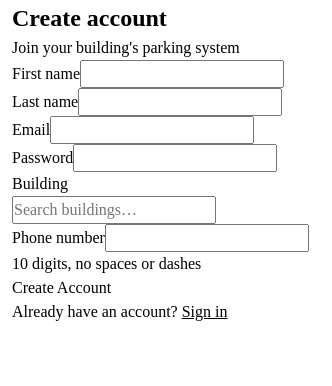
registerForm › shows duplicate email error returned from server
The image size is (332, 386).
Type "Jane" into the field labelled "First name" at [182, 74], box [80,60,284,88]
Type "Doe" into the field labelled "Last name" at [180, 102], box [78,88,282,116]
Type "jane@unosquare.com" into the field labelled "Email" at [152, 130], box [50,116,254,144]
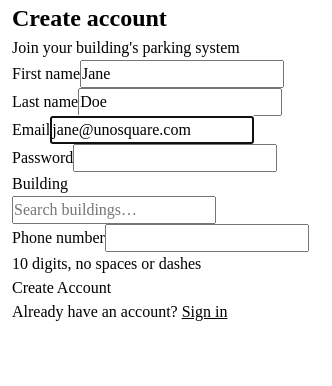
Type "secret12" into the password field labelled "Password" at [175, 158], box [73,144,277,172]
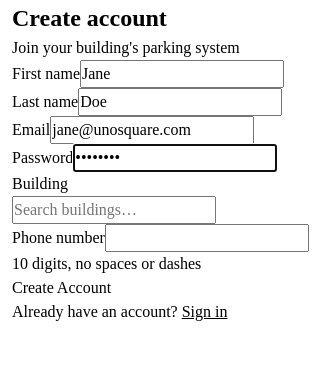
Click the field labelled "Building" at [114, 210], box [12,196,216,224]
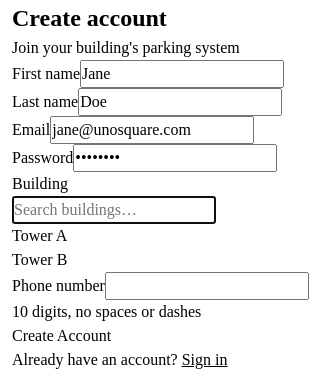
Click the option "Tower A" at [40, 236], box [12,227,67,244]
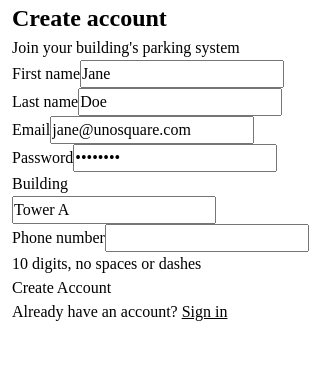
Type "1234567890" into the field labelled "Phone number" at [207, 238], box [105,224,309,252]
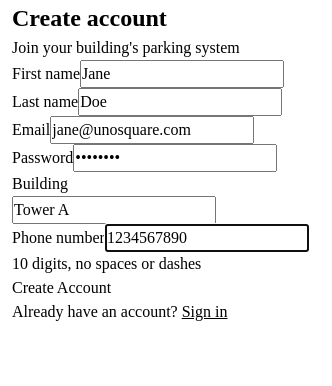
Click the button "Create Account" at [62, 288], box [12,276,111,300]
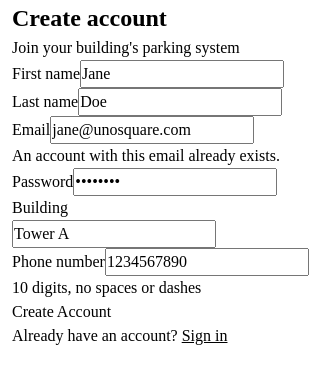
Now the message reads "An account with this email already exists.", box [12,147,280,164]
